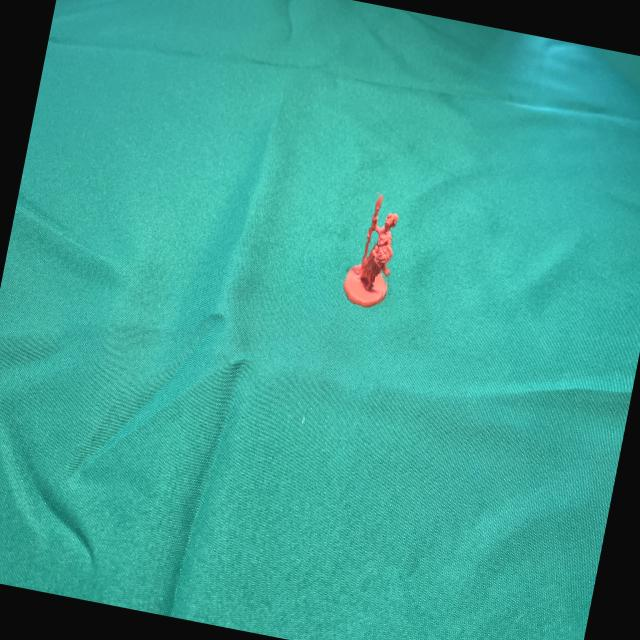amon_follower: (343, 194, 398, 308)
